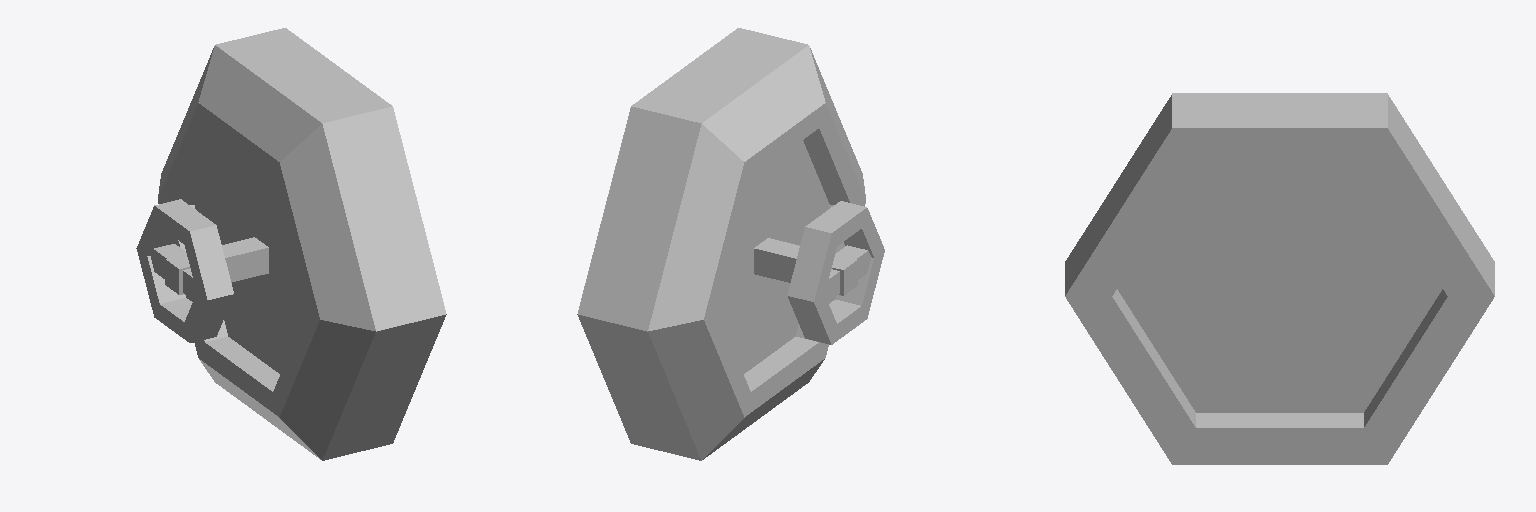
File: lid.obj
3 views of the same model, side by side, from view 1: azimuth 30°, elevation 25°; view 2: azimuth 150°, elevation 25°; view 3: azimuth 270°, elevation 25° (orthographic).
Visible parts, largest first — view 1: Cylinder.001; view 2: Cylinder.001; view 3: Cylinder.001.
Part boxes in pixels (bbox=[...]): Cylinder.001: bbox=[136, 28, 446, 460]; Cylinder.001: bbox=[577, 28, 884, 460]; Cylinder.001: bbox=[1065, 93, 1494, 464].
Bounding box in the file's own units: 0.4526 × 0.8771 × 1.01.